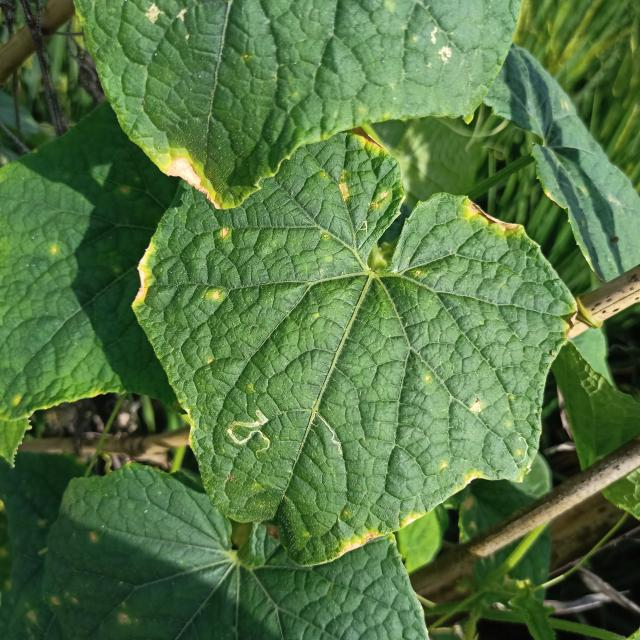disease_cucumber: (332, 129, 390, 218), (436, 456, 485, 488), (203, 285, 230, 305), (467, 398, 483, 414), (218, 226, 233, 243)
